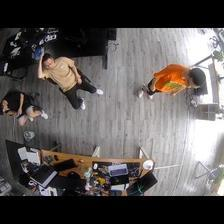normal: (38, 51, 103, 110), (138, 61, 203, 101), (1, 89, 49, 125)
